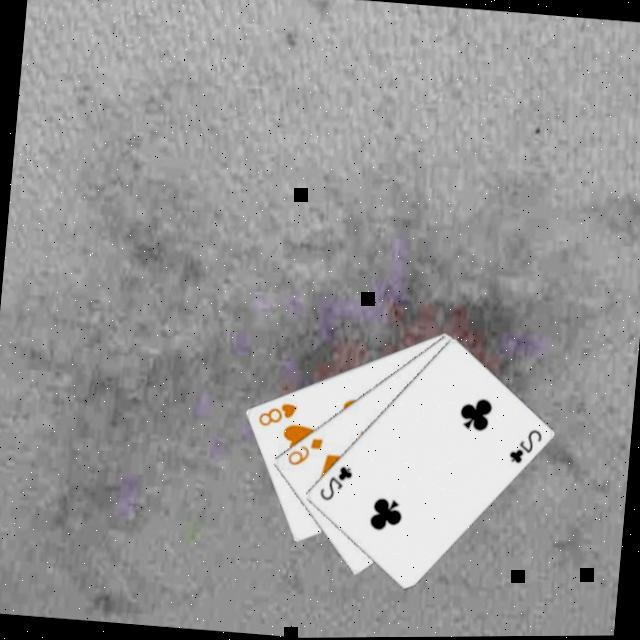2C: (313, 463, 355, 508), (502, 426, 544, 471)
8H: (253, 399, 298, 434)
9D: (281, 433, 324, 472)
